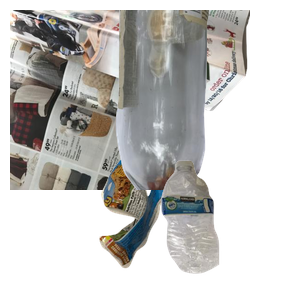glass: (113, 10, 300, 190)
paper: (10, 10, 250, 190)
plastic: (159, 158, 300, 300)
trash: (97, 151, 283, 300)
